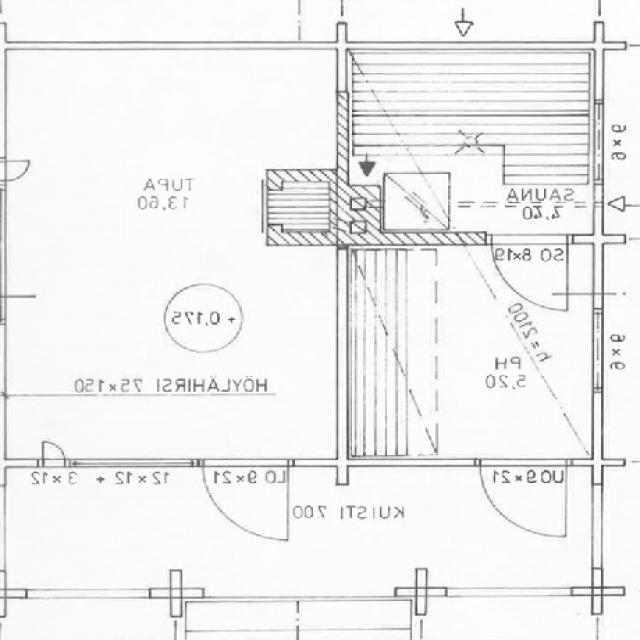door: (483, 458, 566, 540), (205, 458, 288, 540), (492, 236, 568, 310)
